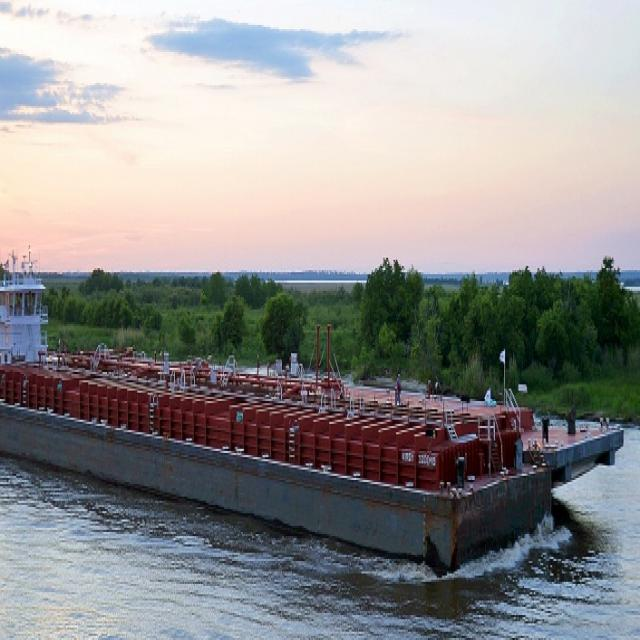tugboat: (1, 263, 58, 458)
